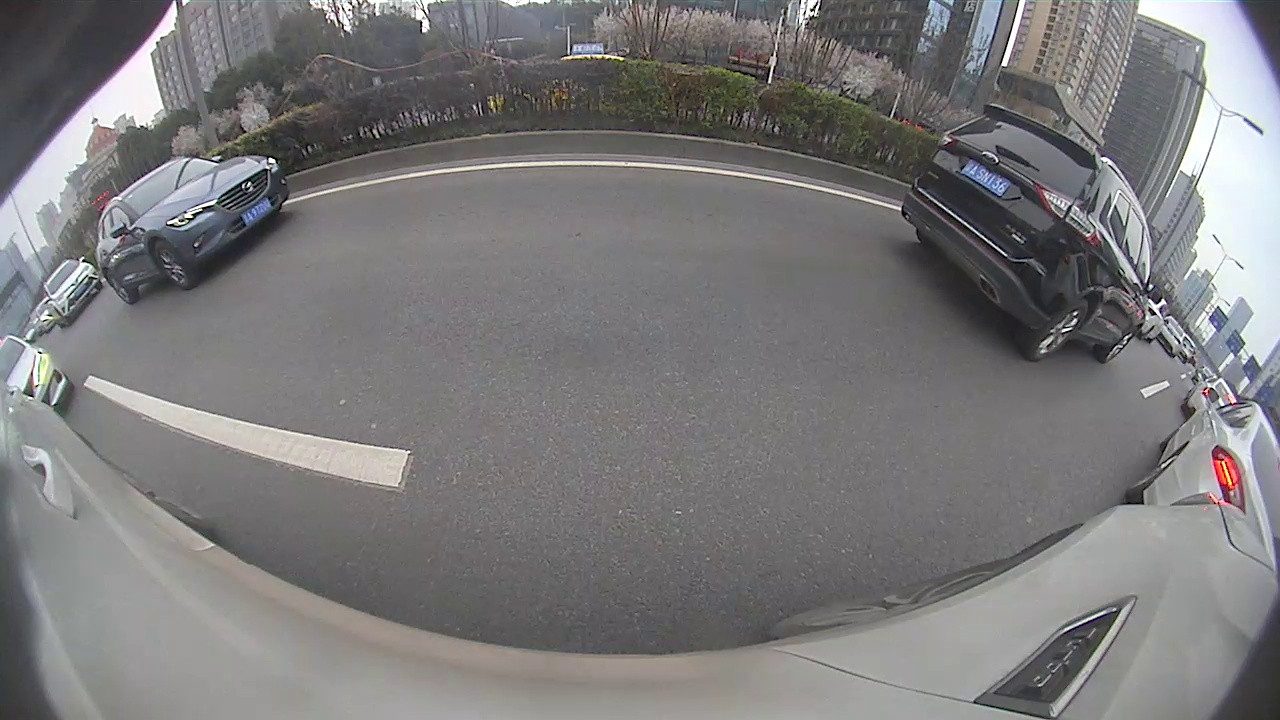car: (898, 102, 1166, 364), (93, 153, 292, 304), (1120, 387, 1278, 574), (41, 253, 101, 328)
front: (150, 244, 193, 287), (1103, 326, 1141, 361)
rear: (1027, 297, 1096, 359)
